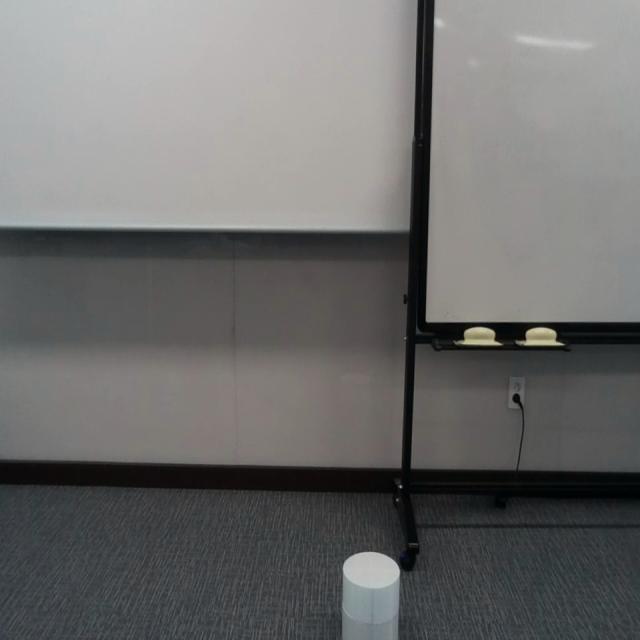cylinder: (342, 551, 400, 640)
